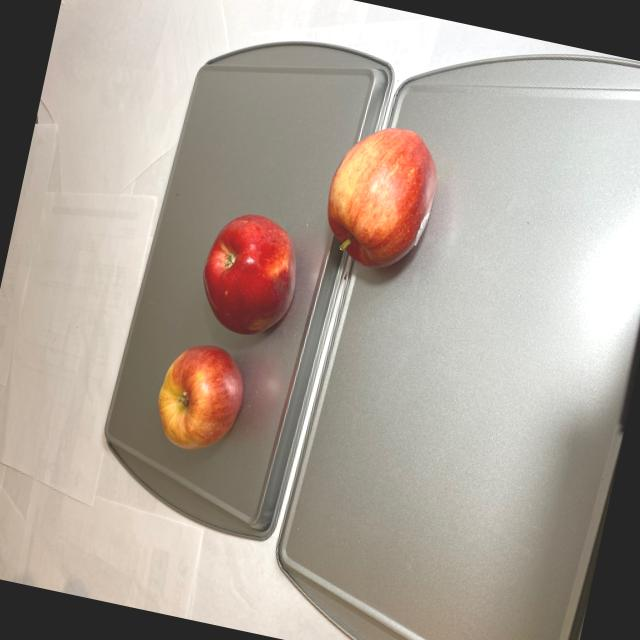apple: (146, 89, 448, 487)
